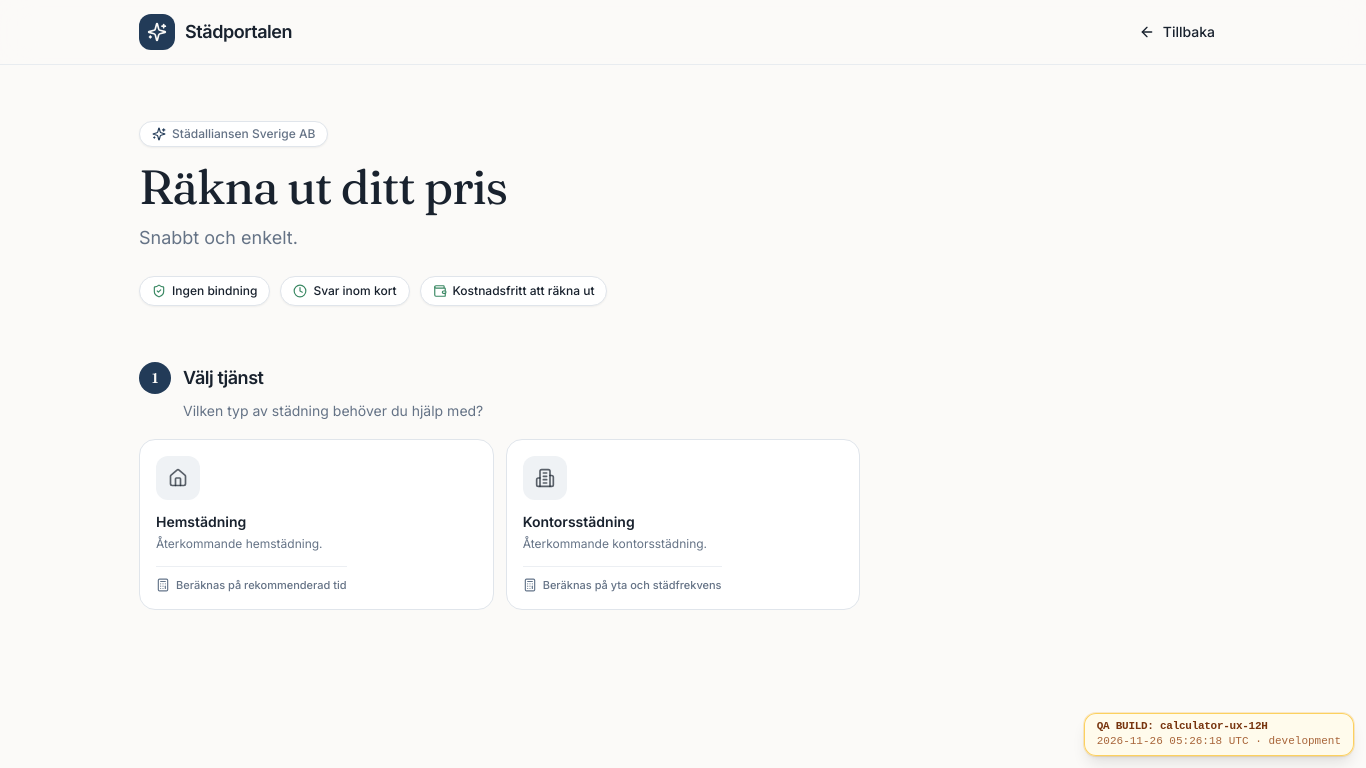
Test: PriceCalculator — office custom interval + supervision (Slice 12F) › shows the manual-review message for a custom interval and never a misleading price
Step 1. Click the button "Kontorsstädning" → (545, 478), box [506, 439, 860, 610]
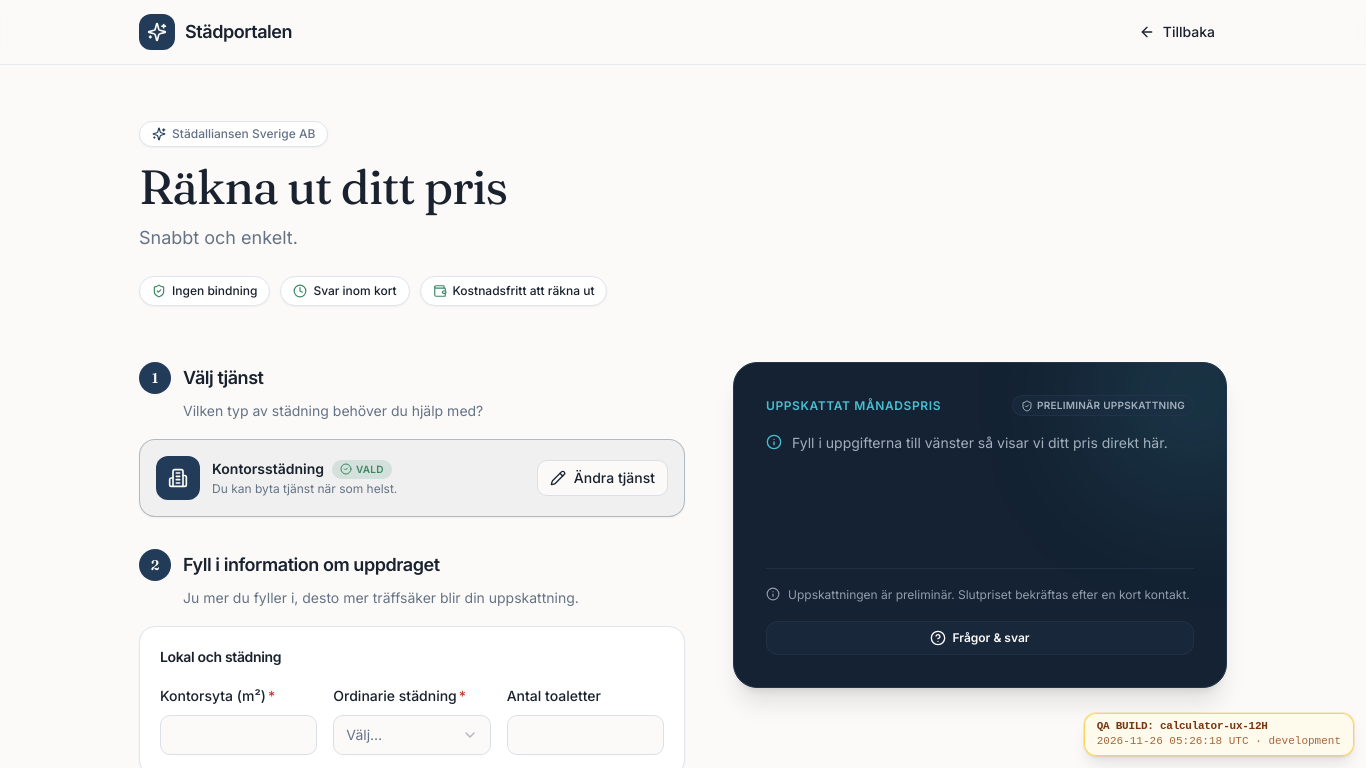
# Choose "Annat intervall" in the frequency select.
Step 2. Click the dropdown → (412, 735), box [333, 715, 491, 755]
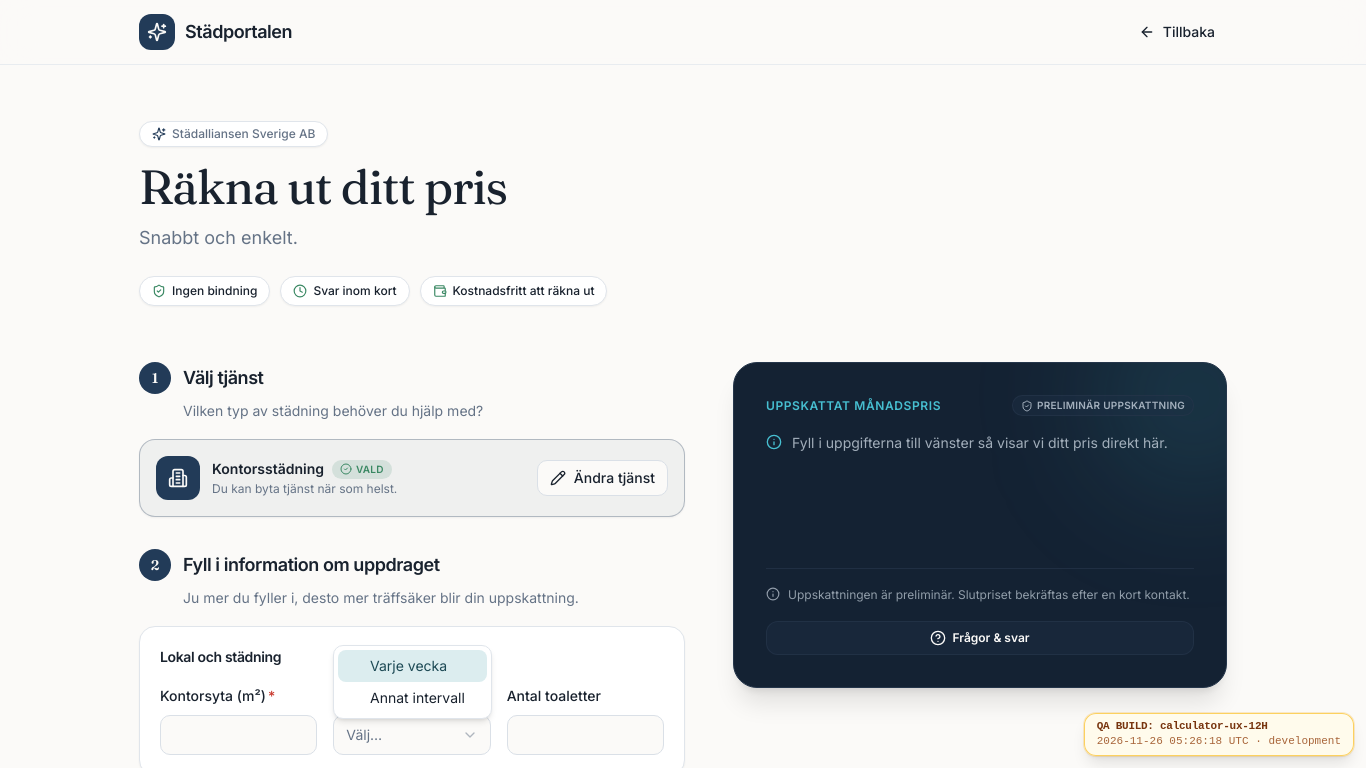
Step 3. Click the option "Annat intervall" → (417, 698), box [370, 689, 465, 706]
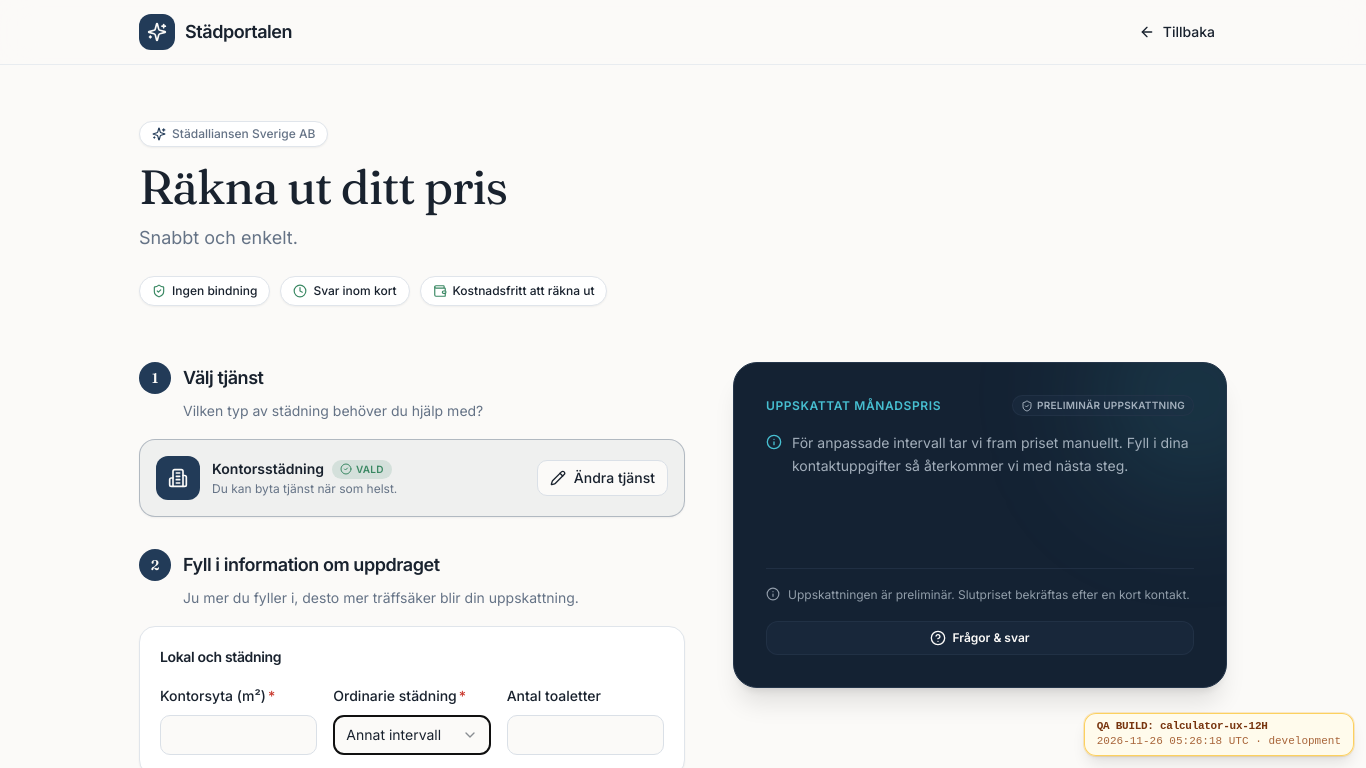
Check: the text "priset manuellt" is shown, box [792, 434, 1189, 474]
